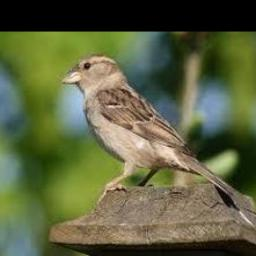Sparrow: (63, 55, 233, 199)
